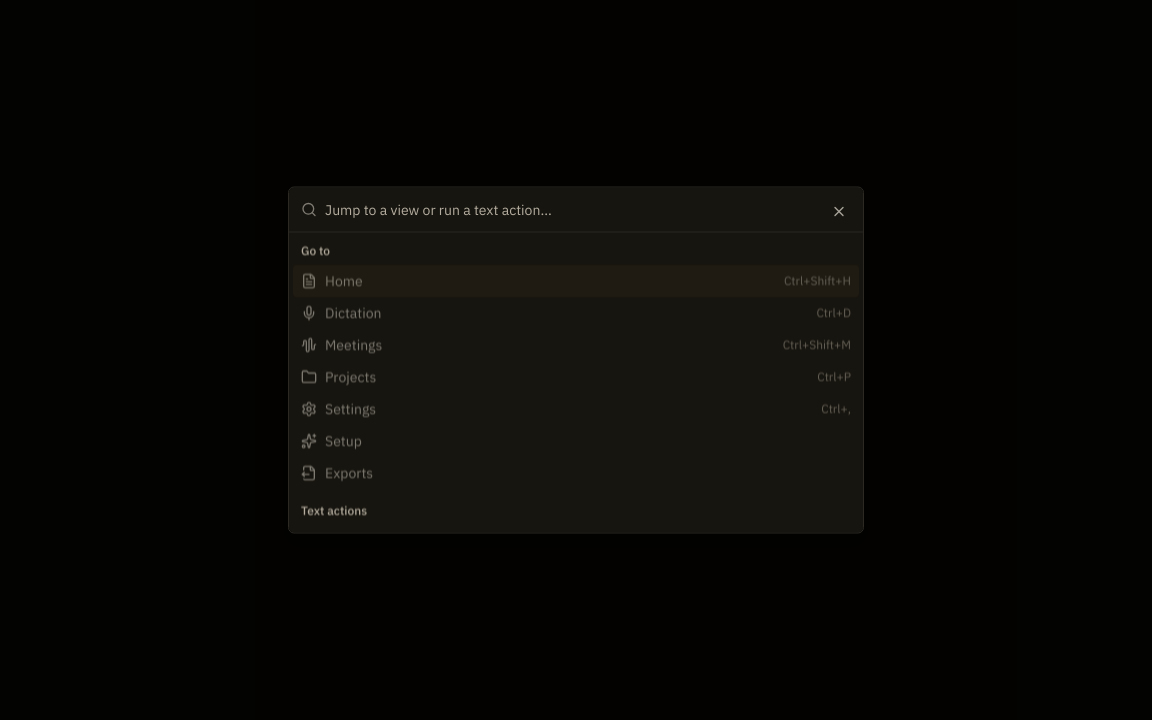
it: AppCommandPalette › filters entries by search input
Type "Bulletize" into the dropdown with placeholder "Jump to a view or run a text action..." at (588, 210), box [325,188,851,232]
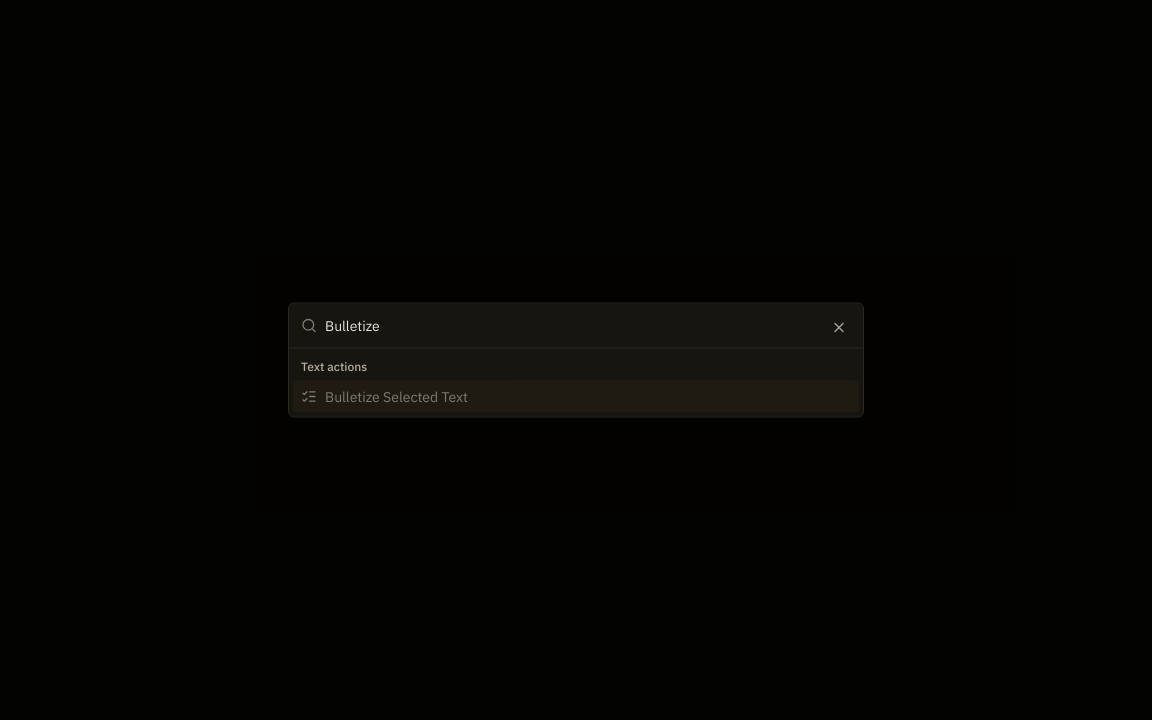
Check: the text "Bulletize Selected Text" is shown, box [325,386,468,406]
Check: the option "Meetings" is gone
